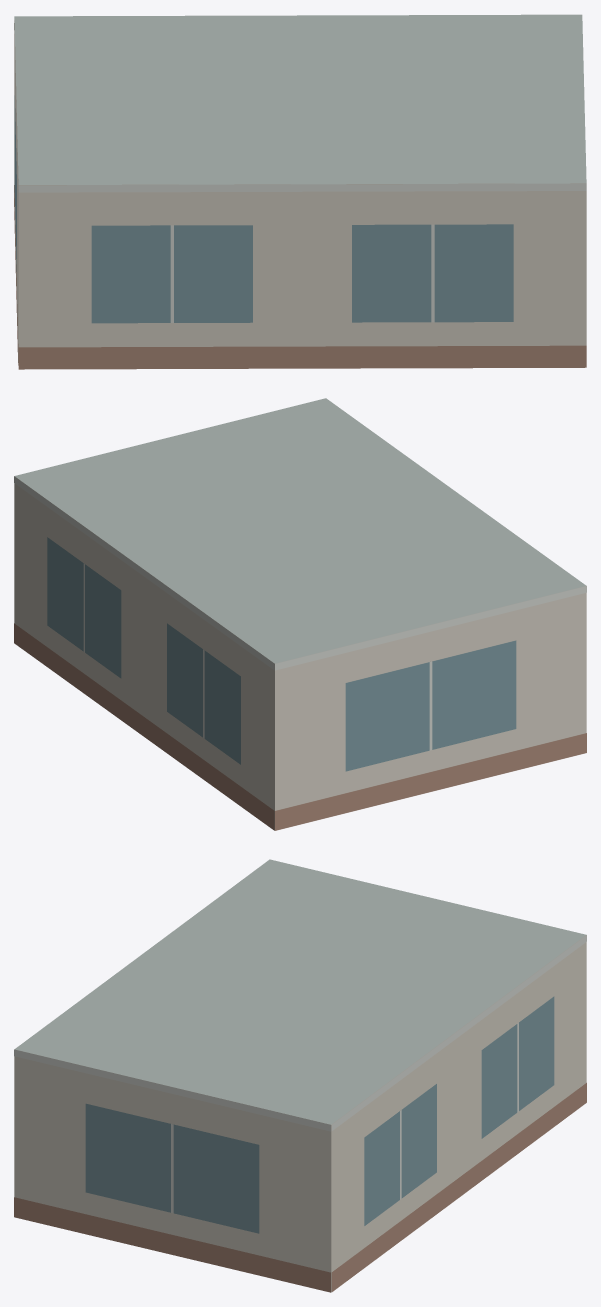
The model's file is survey-upis-32970403.glb.
The picture shows the model from 3 angles, top to bottom: view 1: azimuth 30°, elevation 25°; view 2: azimuth 150°, elevation 25°; view 3: azimuth 270°, elevation 25°; orthographic projection. The views are drawn at different scales.
Visible parts, largest first — view 1: survey-upis-32970403.tmp; view 2: survey-upis-32970403.tmp; view 3: survey-upis-32970403.tmp.
Part boxes in pixels (x1=…): survey-upis-32970403.tmp: x1=14, y1=14, x2=586, y2=369; survey-upis-32970403.tmp: x1=14, y1=398, x2=586, y2=830; survey-upis-32970403.tmp: x1=14, y1=859, x2=586, y2=1292.
Bounding box in the file's own units: 10.36 × 3.05 × 9.44.
